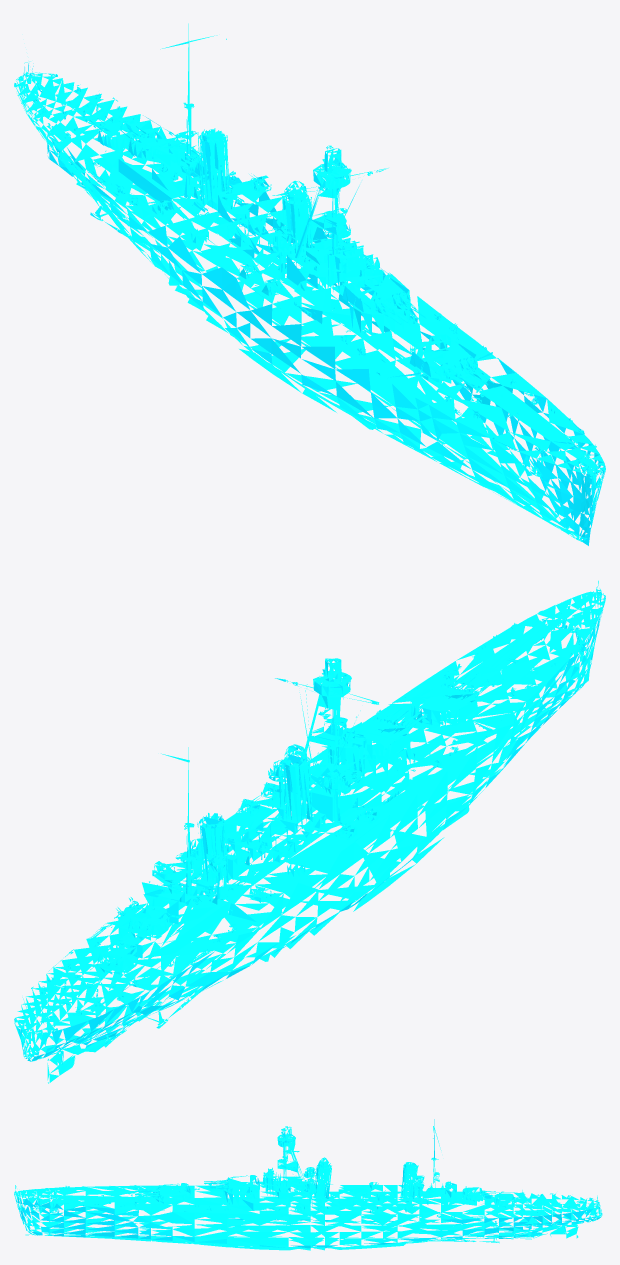
The model's file is Toulon.glb.
3 views of the same model, one above another, from view 1: azimuth 30°, elevation 25°; view 2: azimuth 150°, elevation 25°; view 3: azimuth 270°, elevation 25° (orthographic). The views are drawn at different scales.
Size of the model in its own units: 1.63 by 3.25 by 13.75.
